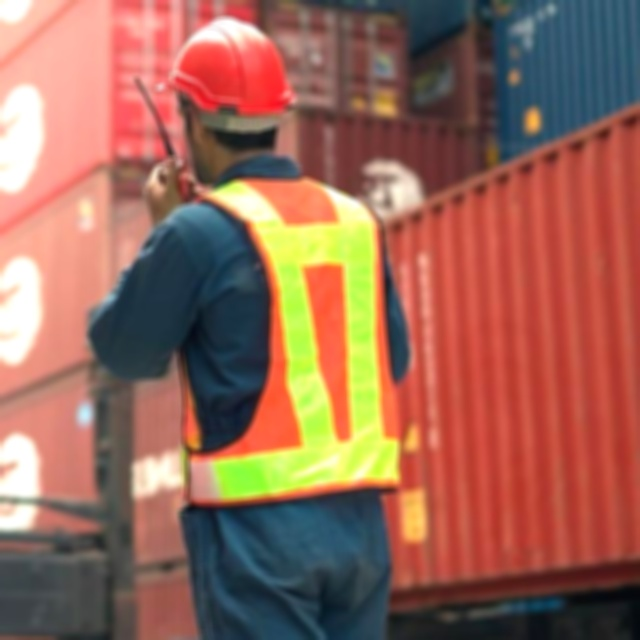Con_Casco: (167, 20, 293, 188)
Con_Chaleco: (166, 173, 400, 502)
